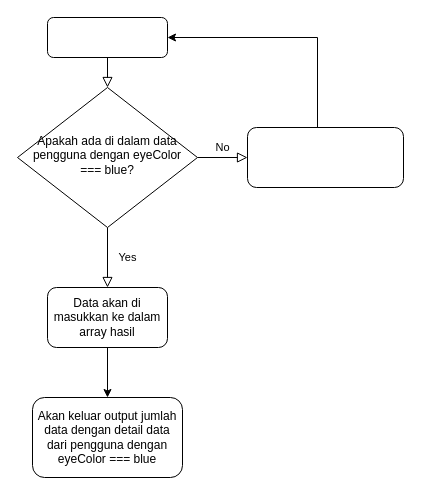
Some shapes in this 421 by 495 pixel diagram are drawn without their labels. The centre of each missing label's shape, as x and y in pixels:
"akan terjadi proses increment untuk kembali mengcheck data" goes at (x=325, y=157).
"Looping untuk check data satu persatu" goes at (x=107, y=37).
